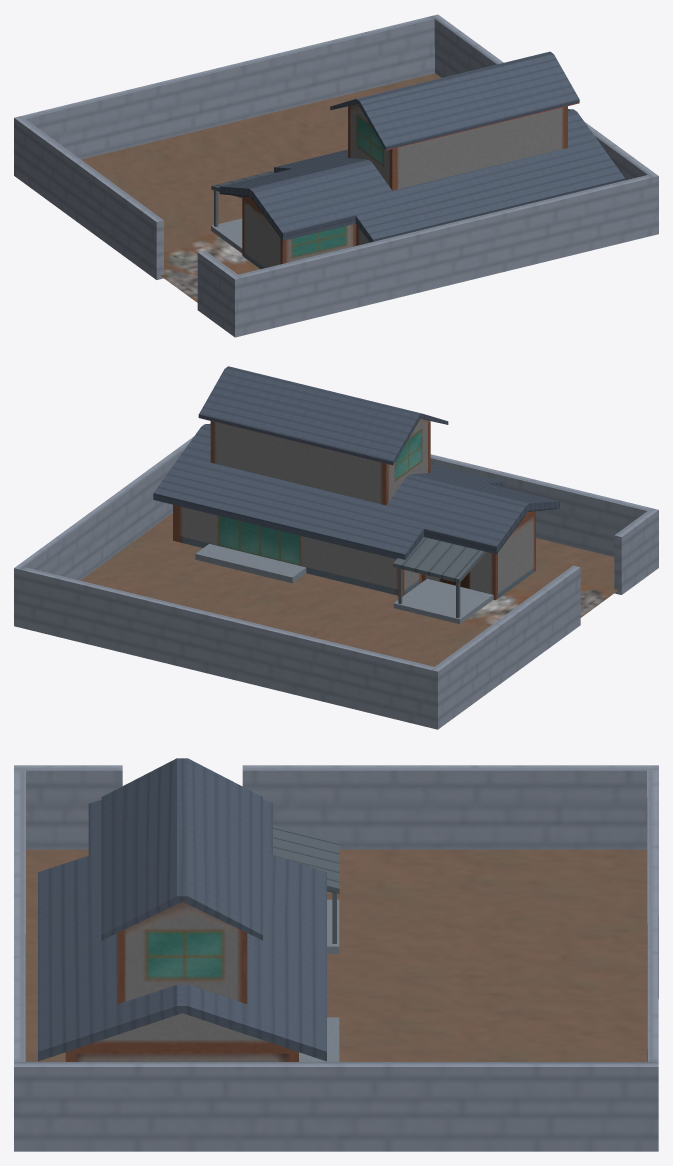
The model's file is nobi2.fbx.
The picture shows the model from 3 angles, top to bottom: view 1: azimuth 30°, elevation 25°; view 2: azimuth 150°, elevation 25°; view 3: azimuth 270°, elevation 25°; orthographic projection. The views are drawn at different scales.
Parts seen in each view (by area): view 1: polySurface14, pCube50, pCube51, polySurface10, pCube53; view 2: polySurface14, pCube50, polySurface10, pCube51, pCube53, pCube54, pCube59; view 3: polySurface14, polySurface10, pCube50, pCube51, pCube54, pCube59.
Part boxes in pixels (x1,y1,x2,y2): polySurface14: (14,14,658,337); pCube50: (219,109,625,268); pCube51: (330,51,579,190); polySurface10: (81,73,440,302); pCube53: (211,218,242,253); polySurface14: (14,436,658,729); pCube50: (153,423,559,600); polySurface10: (80,513,617,666); pCube51: (198,366,448,505); pCube53: (393,578,493,624); pCube54: (393,537,486,583); pCube59: (195,544,306,583); polySurface14: (14,765,658,1151); polySurface10: (26,849,646,1061); pCube50: (38,799,326,1061); pCube51: (101,758,262,1004); pCube54: (273,825,339,894); pCube59: (299,1017,339,1061).
Size of the model in its own units: 27.86 by 9.54 by 25.17.
Materials: 1 (1 with a texture image).
